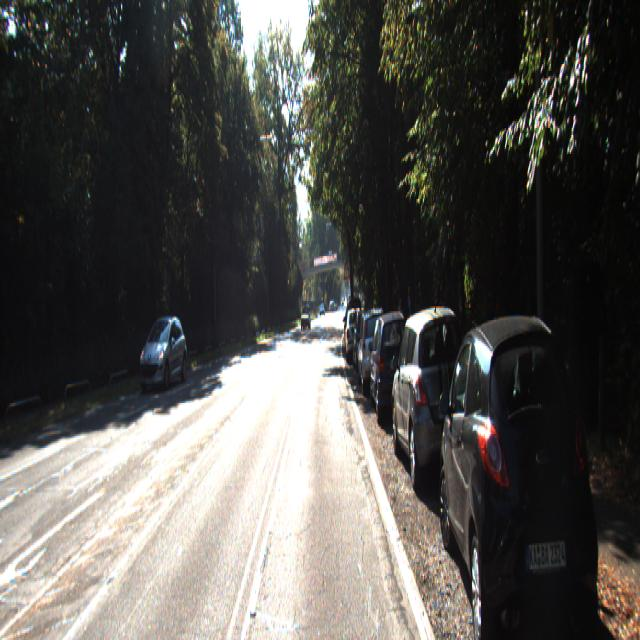Car: (435, 307, 611, 638), (390, 304, 479, 494), (369, 304, 415, 419), (138, 314, 188, 392), (356, 304, 393, 392), (345, 306, 365, 360)
DontCare: (299, 279, 339, 345)
